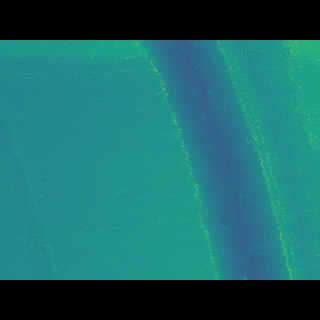Loch: (135, 69, 319, 249)
